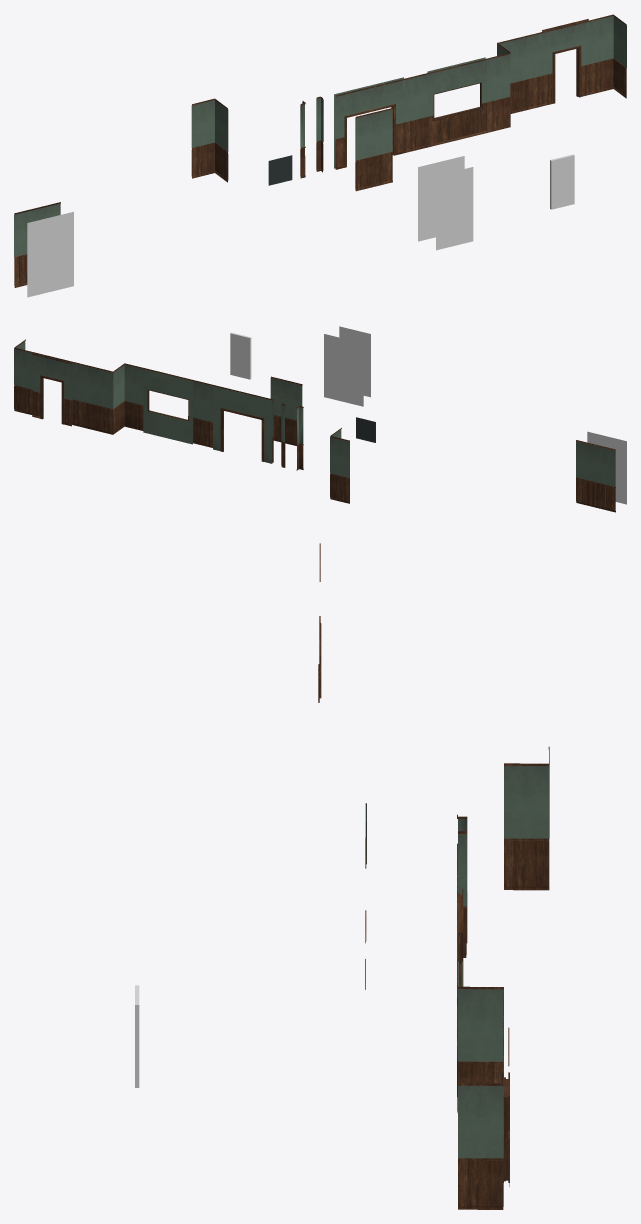
Rendered from BaMidWall.fbx.
3 views of the same model, one above another, from view 1: azimuth 30°, elevation 25°; view 2: azimuth 150°, elevation 25°; view 3: azimuth 270°, elevation 25° (orthographic). The views are drawn at different scales.
Visible parts, largest first — view 1: ModCorner, WindowWall.001, WindowWall.002, LP_Mi_Re.002, Mi_Re, LP_Mi_Re.001, ClosedCorner, DoorWall, LP_Mi_Re, OpenCorner, MT_rec_Single_Wall, ModCorner.001 (+5 smaller); view 2: WindowWall.001, LP_Mi_Re, ModCorner.001, HP_Mi_Re, WindowWall.002, DoorWall, OpenCorner, LP_Mi_Re.002, LP_Mi_Re.001, ClosedCorner, MT_rec_Single_Wall, ModCorner (+5 smaller); view 3: LP_Mi_Re.001, ClosedCorner, OpenCorner.
Part boxes in pixels (bbox=[...]): ModCorner: bbox=[27, 211, 73, 297]; WindowWall.001: bbox=[427, 57, 487, 146]; WindowWall.002: bbox=[334, 77, 405, 169]; LP_Mi_Re.002: bbox=[355, 108, 392, 191]; Mi_Re: bbox=[436, 167, 473, 250]; LP_Mi_Re.001: bbox=[191, 98, 228, 182]; ClosedCorner: bbox=[590, 14, 626, 98]; DoorWall: bbox=[542, 19, 590, 105]; LP_Mi_Re: bbox=[497, 31, 543, 113]; OpenCorner: bbox=[487, 43, 510, 132]; MT_rec_Single_Wall: bbox=[405, 73, 428, 152]; ModCorner.001: bbox=[418, 156, 464, 241]; WindowWall.001: bbox=[143, 368, 194, 444]; LP_Mi_Re: bbox=[73, 362, 113, 434]; ModCorner.001: bbox=[324, 334, 363, 406]; HP_Mi_Re: bbox=[576, 440, 615, 512]; WindowWall.002: bbox=[213, 385, 273, 463]; DoorWall: bbox=[32, 352, 73, 426]; OpenCorner: bbox=[112, 363, 144, 434]; LP_Mi_Re.002: bbox=[270, 376, 302, 445]; LP_Mi_Re.001: bbox=[330, 428, 349, 503]; ClosedCorner: bbox=[14, 339, 33, 415]; MT_rec_Single_Wall: bbox=[194, 380, 214, 447]; ModCorner: bbox=[587, 431, 626, 504]; LP_Mi_Re.001: bbox=[504, 746, 549, 890]; ClosedCorner: bbox=[458, 1066, 503, 1209]; OpenCorner: bbox=[457, 969, 503, 1112].
Bounding box in the file's own units: 2800 × 305 × 1000.
